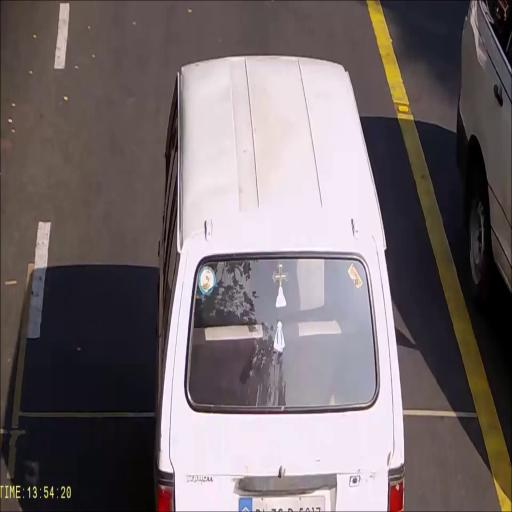License plate: (238, 495, 327, 512)
Vehicle: (154, 54, 405, 512), (456, 0, 512, 301)
